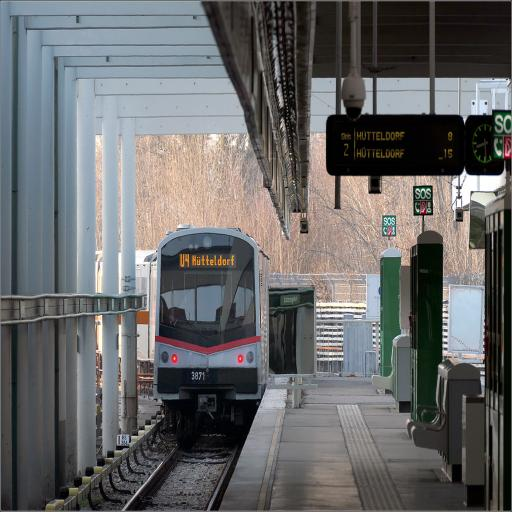V-Wagen: (154, 224, 272, 404)
